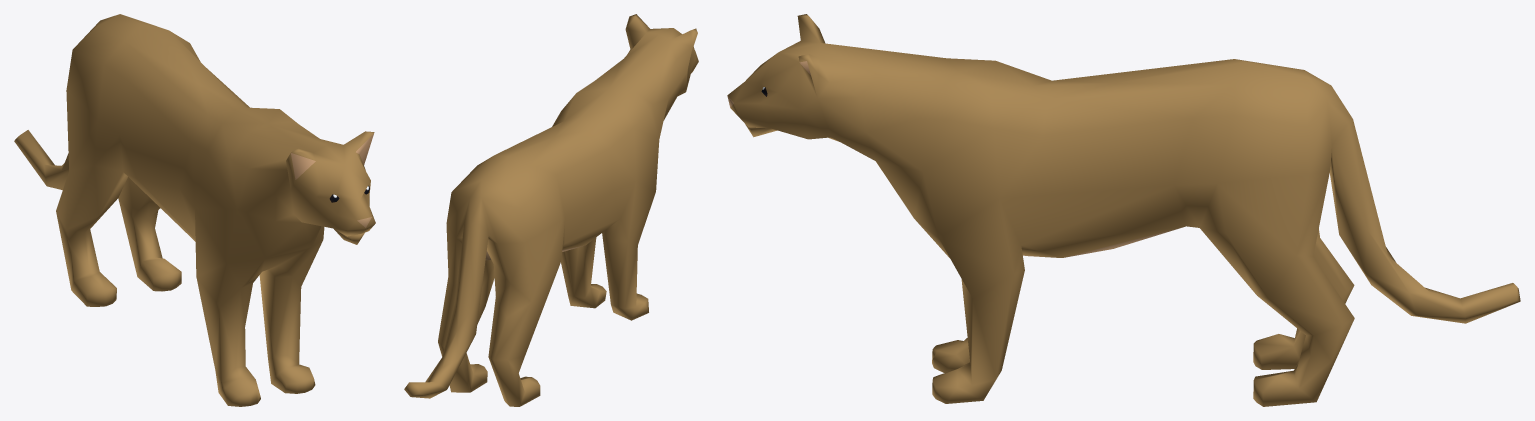
File: Cougar01.glb
3 views of the same model, side by side, from view 1: azimuth 30°, elevation 25°; view 2: azimuth 150°, elevation 25°; view 3: azimuth 270°, elevation 25° (orthographic). The views are drawn at different scales.
Parts seen in each view (by area): view 1: Cougar01; view 2: Cougar01; view 3: Cougar01.
Boxes of the visible parts, box(x1,y1,x2,y2) form: Cougar01: box(14, 14, 375, 406); Cougar01: box(404, 14, 698, 406); Cougar01: box(727, 14, 1520, 406).
Size of what is drawn, in the model's own units: 0.4712 by 1.19 by 2.48.
Materials: 1 (1 with a texture image).
